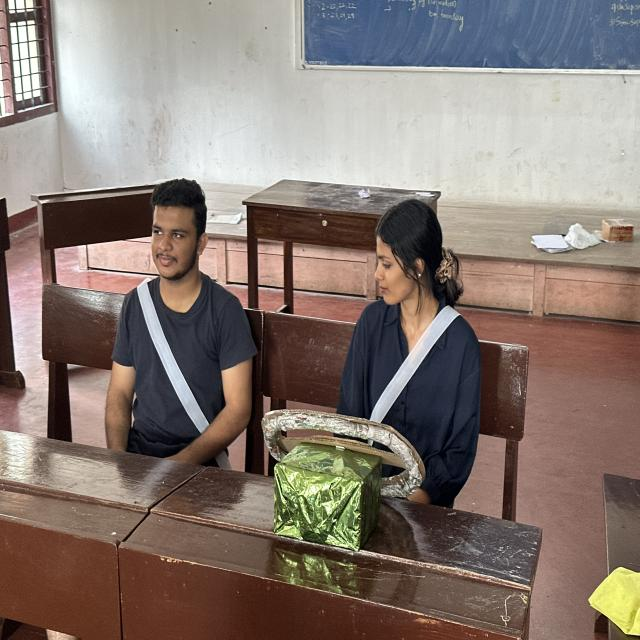seatbelt: (95, 283, 282, 434), (352, 306, 517, 462)
